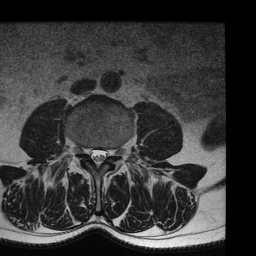CCS_normal: (93, 141, 101, 173)
LFS_normal: (109, 139, 117, 163)
LLS_normal: (101, 140, 109, 166)
RFS_normal: (77, 137, 86, 160)
RLS_normal: (86, 139, 93, 165)
